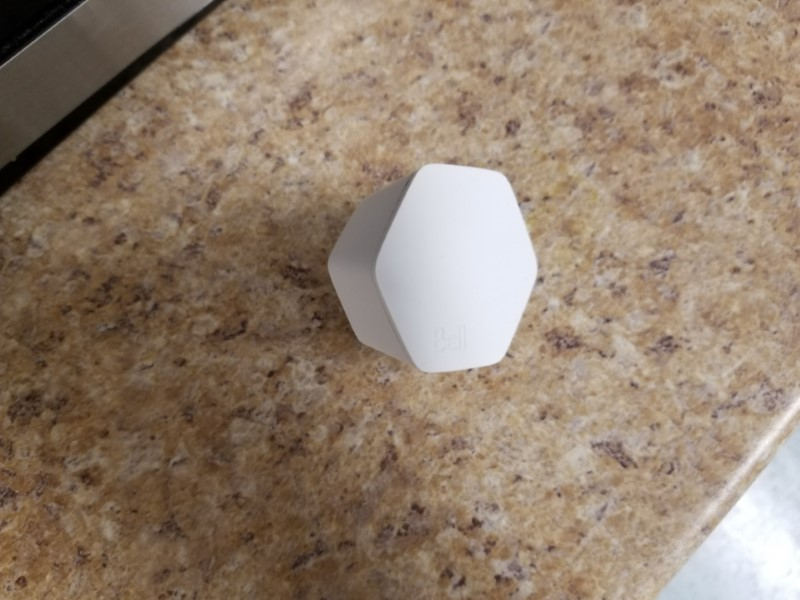pod: (323, 160, 548, 382)
